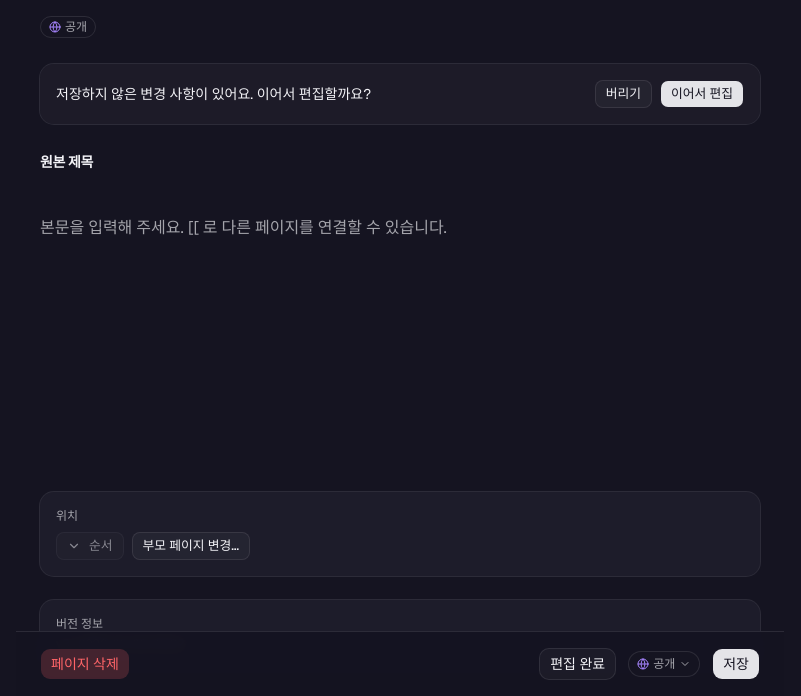
Test: PageEditView — localStorage draft › '버리기' 를 누르면 localStorage 가 정리되고 원본이 유지된다
The width and height of the screenshot is (801, 696).
Expected: the field showing "원본 제목" is shown, [40, 148, 760, 176]
Click the button "버리기" at [623, 94], box [595, 80, 652, 108]
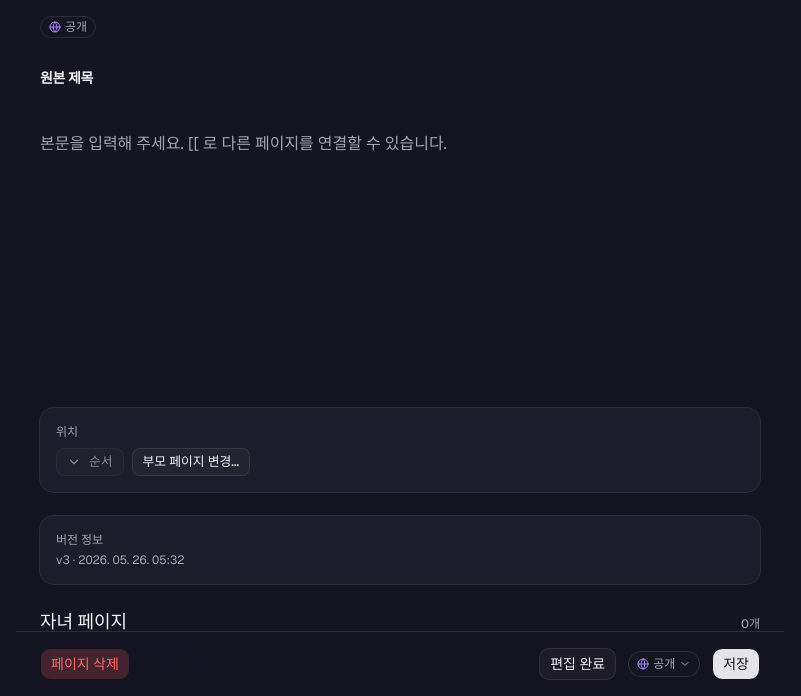
Expected: the field showing "원본 제목" is shown, [40, 64, 760, 92]
Result: the text "저장하지 않은 변경 사항이 있어요" is gone
